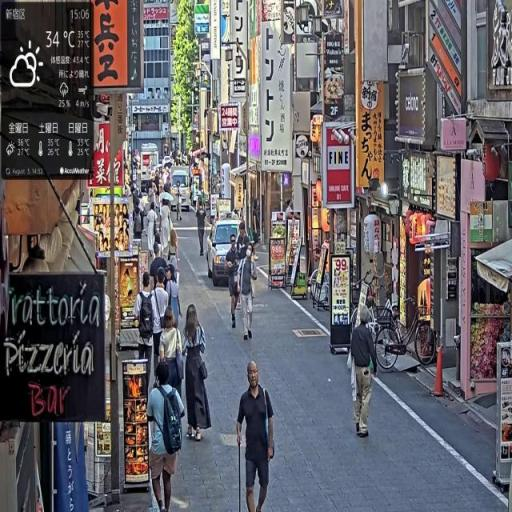person: (236, 358, 277, 512), (147, 357, 186, 512), (182, 302, 211, 443), (351, 305, 378, 441), (134, 273, 157, 387), (159, 307, 183, 406), (235, 245, 258, 344), (226, 236, 240, 328), (166, 264, 183, 333), (153, 268, 170, 332), (148, 244, 170, 290), (237, 223, 253, 281), (160, 195, 174, 253), (196, 200, 208, 259), (149, 202, 159, 258), (169, 230, 181, 274), (134, 208, 145, 245)
